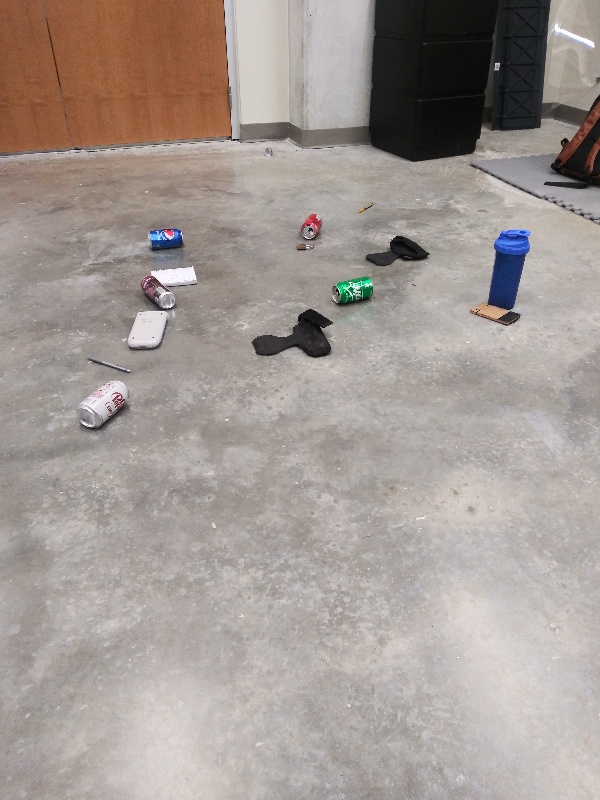can: (72, 379, 133, 435), (329, 274, 377, 309), (138, 273, 180, 312), (143, 227, 188, 253), (298, 212, 327, 244)
